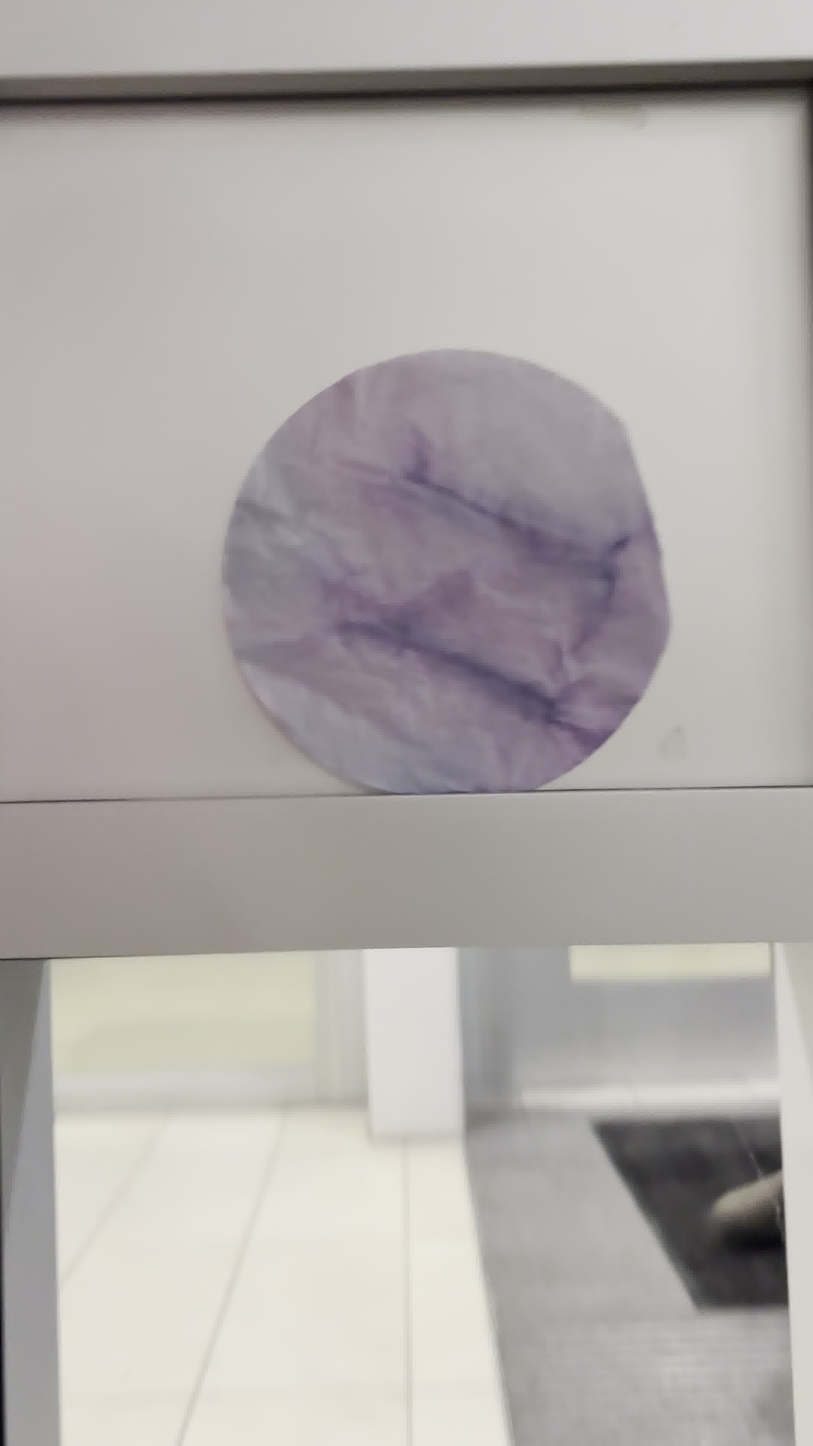Target: (203, 330, 689, 813)
